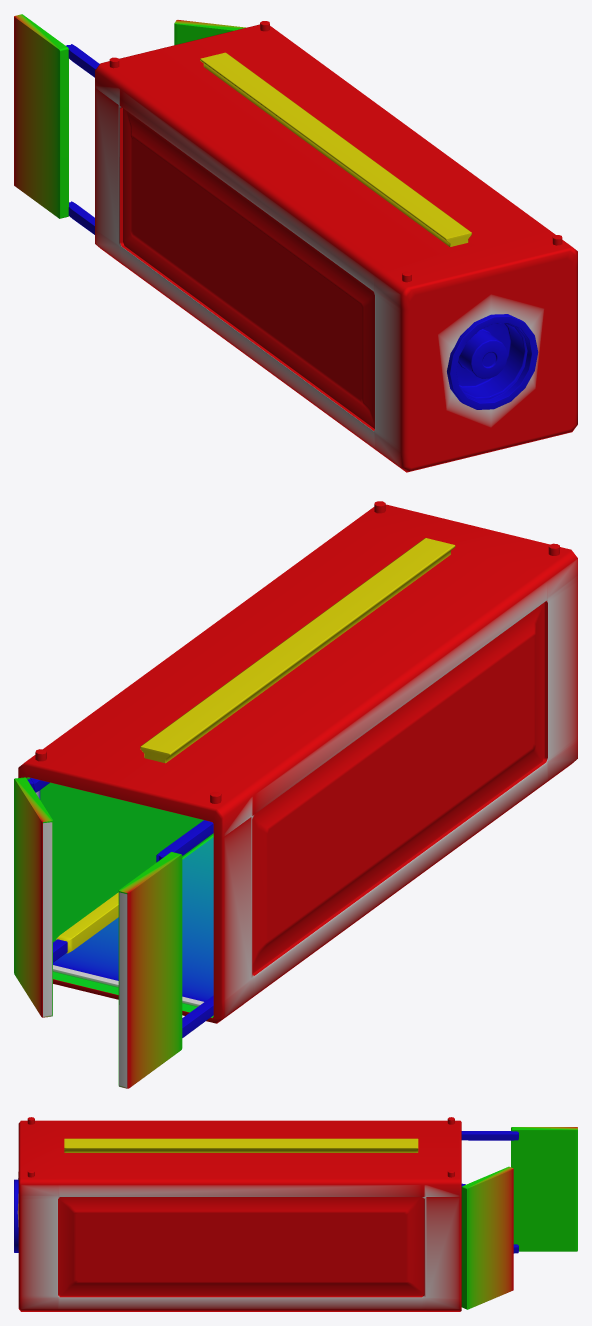
File: Container_4x12x4_Open_1.fbx
3 views of the same model, one above another, from view 1: azimuth 30°, elevation 25°; view 2: azimuth 150°, elevation 25°; view 3: azimuth 270°, elevation 25° (orthographic). The views are drawn at different scales.
Visible parts, largest first — view 1: Container_4x12x4_Open_1; view 2: Container_4x12x4_Open_1; view 3: Container_4x12x4_Open_1.
Boxes of the visible parts, x1,y1,x2,y2 form: Container_4x12x4_Open_1: (14, 14, 577, 472); Container_4x12x4_Open_1: (14, 501, 577, 1088); Container_4x12x4_Open_1: (14, 1117, 577, 1311).
Size of what is drawn, in the model's own units: 402 by 420 by 1536.
